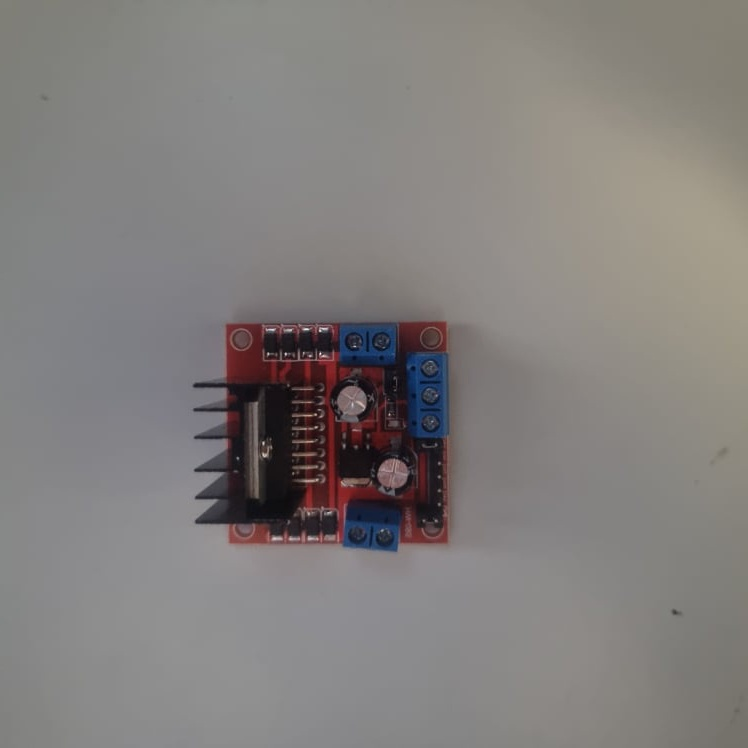MOTOR: (191, 319, 449, 555)
